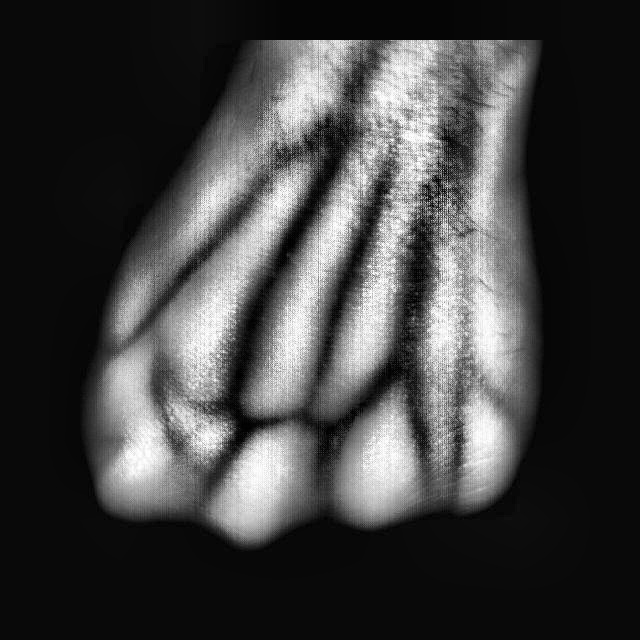Vein: (157, 132, 306, 304), (231, 153, 346, 339), (311, 169, 400, 358), (383, 164, 450, 355)
